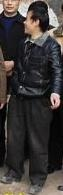boots: (0, 171, 21, 183), (0, 160, 9, 170)
